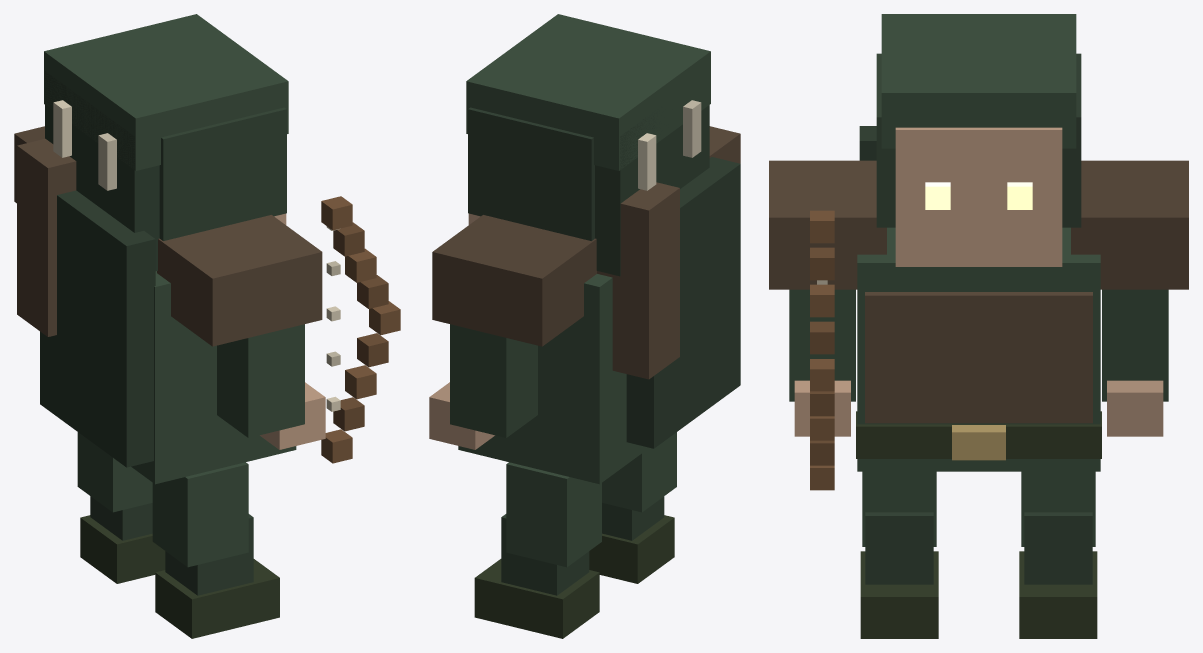
Rendered from bandit-poacher.glb.
3 renders of one model, left to right at view 1: azimuth 30°, elevation 25°; view 2: azimuth 150°, elevation 25°; view 3: azimuth 270°, elevation 25°, orthographic. The views are drawn at different scales.
Visible parts, largest first — view 1: Hood, Boots, Cape, Shoulders, Torso, Arms, Quiver, Bow, Arrows, Hands, Bowstring; view 2: Hood, Boots, Cape, Shoulders, Torso, Quiver, Arms, Arrows, Hands; view 3: Armor, Hood, Boots, Shoulders, Head, Torso, Arms, Bow, Hands, Trim, Eyes, Cape.
Boxes of the visible parts, x1,y1,x2,y2 form: Hood: [44, 14, 288, 270]; Boots: [77, 432, 279, 638]; Cape: [40, 190, 155, 467]; Shoulders: [14, 126, 322, 346]; Torso: [131, 271, 296, 484]; Arms: [217, 324, 304, 437]; Quiver: [17, 138, 76, 336]; Bow: [321, 196, 400, 463]; Arrows: [53, 100, 116, 190]; Hands: [260, 382, 325, 449]; Bowstring: [326, 226, 340, 411]; Hood: [466, 14, 710, 276]; Boots: [474, 432, 676, 638]; Cape: [626, 157, 740, 448]; Shoulders: [432, 126, 740, 346]; Torso: [458, 274, 649, 484]; Quiver: [597, 182, 679, 379]; Arms: [450, 324, 537, 437]; Arrows: [638, 100, 701, 190]; Hands: [429, 382, 494, 449]; Armor: [856, 292, 1101, 458]; Hood: [876, 14, 1081, 227]; Boots: [860, 471, 1097, 638]; Shoulders: [769, 160, 1188, 289]; Head: [895, 127, 1062, 266]; Torso: [857, 227, 1100, 471]; Arms: [789, 289, 1168, 401]; Bow: [810, 210, 834, 490]; Hands: [794, 380, 1163, 436]; Trim: [952, 425, 1005, 460]; Eyes: [925, 182, 1032, 209]; Cape: [859, 126, 876, 160].
Bounding box in the file's own units: 2.33 × 4.5 × 3.08.
